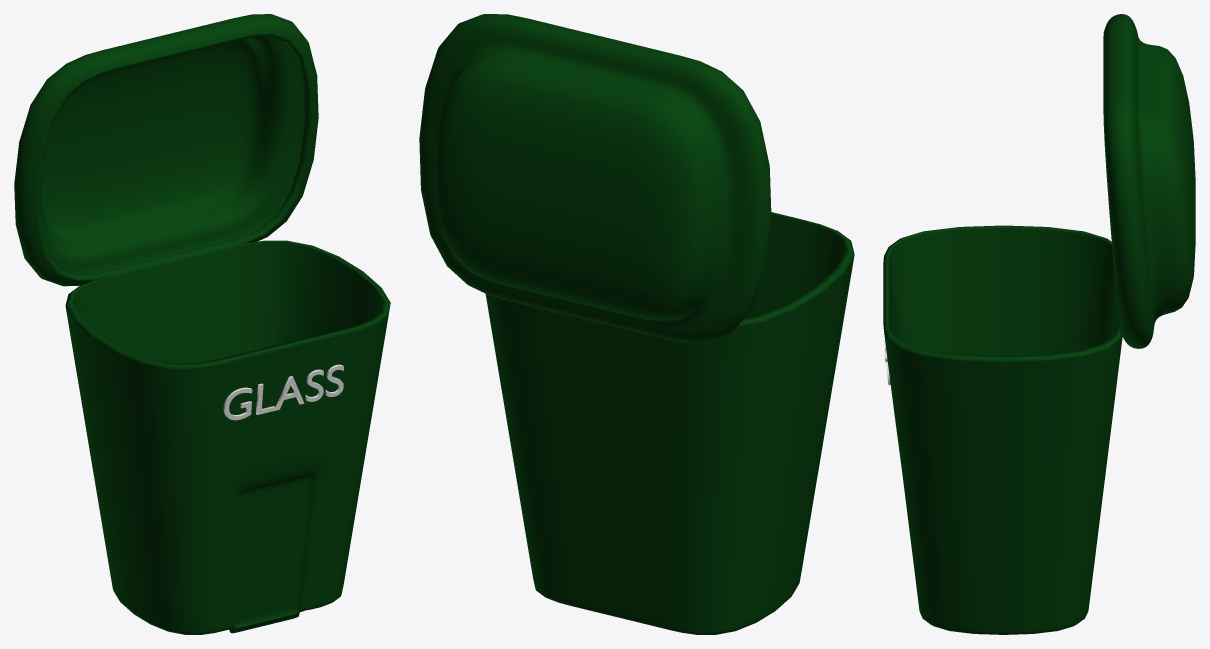
Rendered from Glass Bin.fbx.
3 views of the same model, side by side, from view 1: azimuth 30°, elevation 25°; view 2: azimuth 150°, elevation 25°; view 3: azimuth 270°, elevation 25° (orthographic). The views are drawn at different scales.
Parts seen in each view (by area): view 1: Cube, Cube.001, Text; view 2: Cube, Cube.001; view 3: Cube, Cube.001.
Part boxes in pixels (x1,y1,x2,y2): Cube: [65, 240, 390, 634]; Cube.001: [14, 14, 318, 286]; Text: [223, 364, 343, 420]; Cube: [485, 212, 854, 634]; Cube.001: [419, 14, 771, 342]; Cube: [883, 225, 1122, 634]; Cube.001: [1103, 14, 1195, 348].
Bounding box in the file's own units: 275 × 456 × 241.
